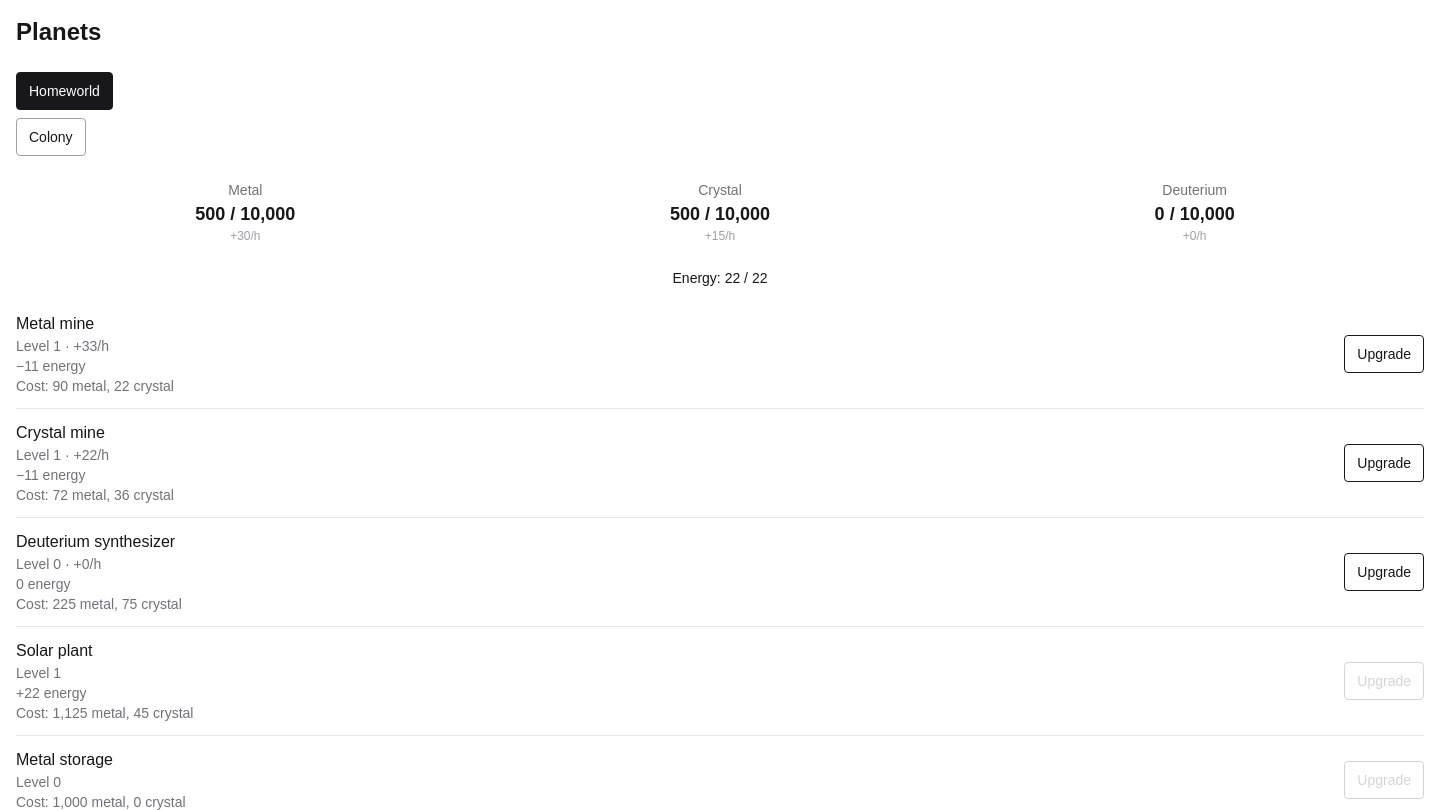
Test case: PlanetsPage › shows the vault of the planet the user selects
This screenshot has width=1440, height=810.
Check: the text "Metal" is shown, box left=228, top=182, right=262, bottom=198
Click the button "Colony".
click(51, 137)  # box left=16, top=118, right=86, bottom=156
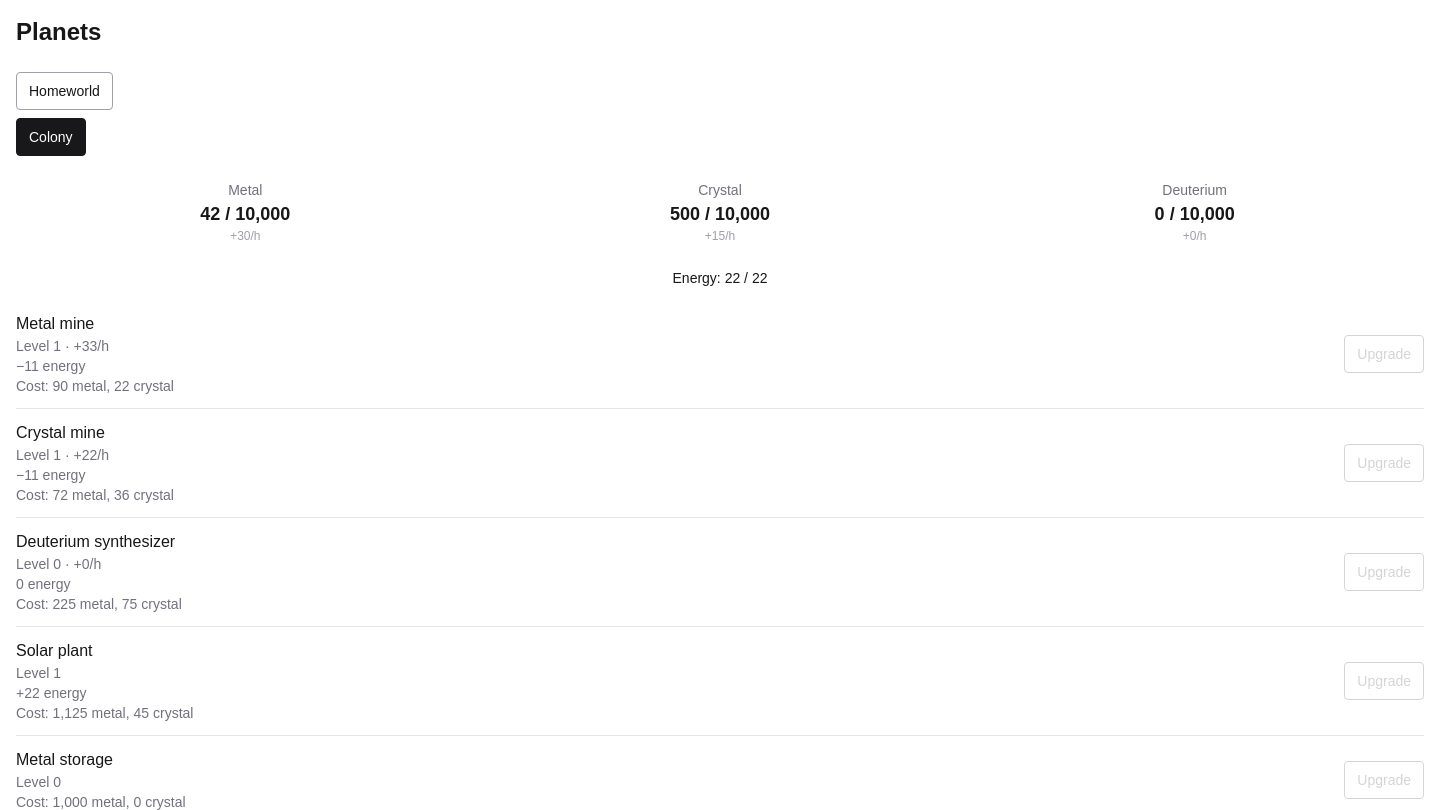
Check: the text "42 / 10,000" is shown, box left=200, top=204, right=290, bottom=224
